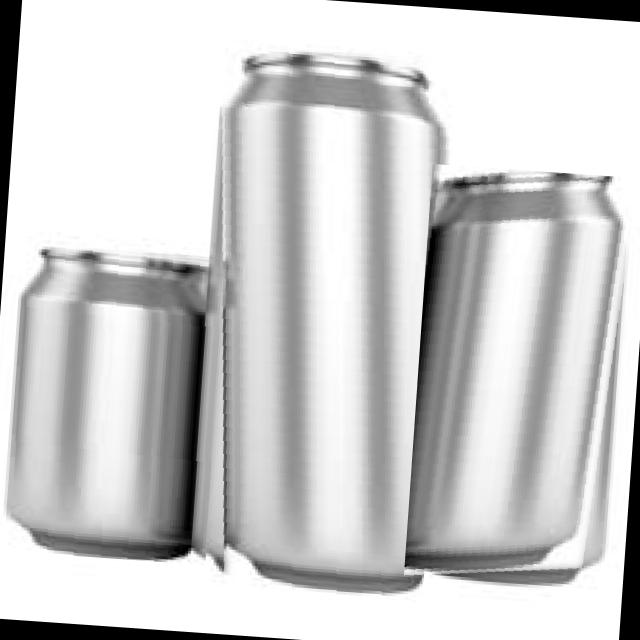Cans: (183, 41, 460, 602), (403, 163, 640, 592), (3, 238, 226, 564)
